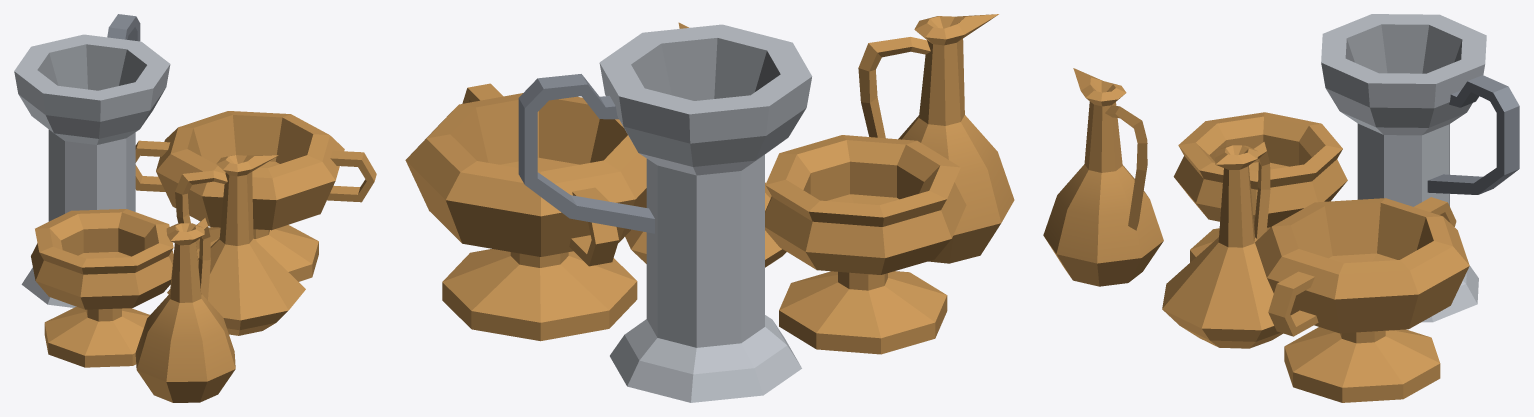
Rendered from SM_Prop_Gold_Plates_Preset_09.fbx.
3 renders of one model, left to right at view 1: azimuth 30°, elevation 25°; view 2: azimuth 150°, elevation 25°; view 3: azimuth 270°, elevation 25°, orthographic. The views are drawn at different scales.
Visible parts, largest first — view 1: SM_Prop_Gold_Plates_Preset_09; view 2: SM_Prop_Gold_Plates_Preset_09; view 3: SM_Prop_Gold_Plates_Preset_09.
Part boxes in pixels (left/top/right/bottom): SM_Prop_Gold_Plates_Preset_09: left=14, top=14, right=376, bottom=402; SM_Prop_Gold_Plates_Preset_09: left=405, top=14, right=1014, bottom=402; SM_Prop_Gold_Plates_Preset_09: left=1043, top=14, right=1519, bottom=402.
Bounding box in the file's own units: 102 × 60.65 × 106.
